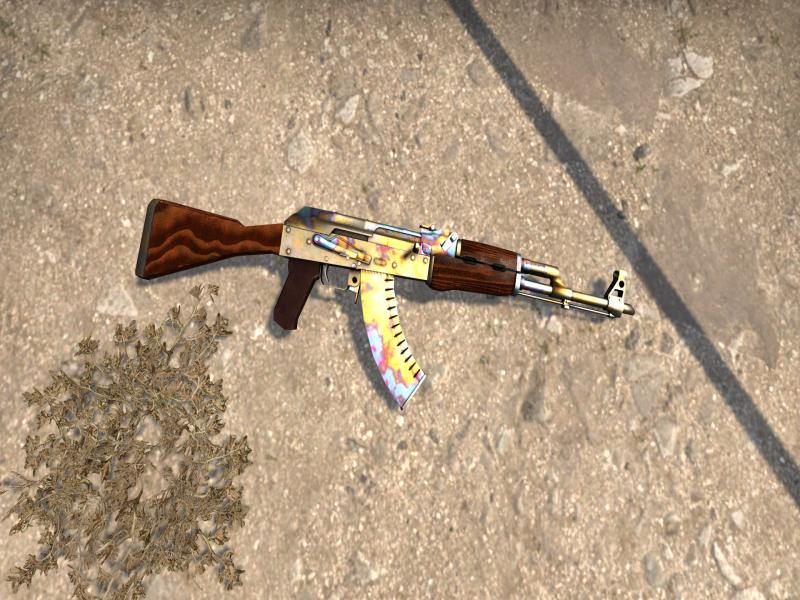AK47: (136, 199, 635, 407)
